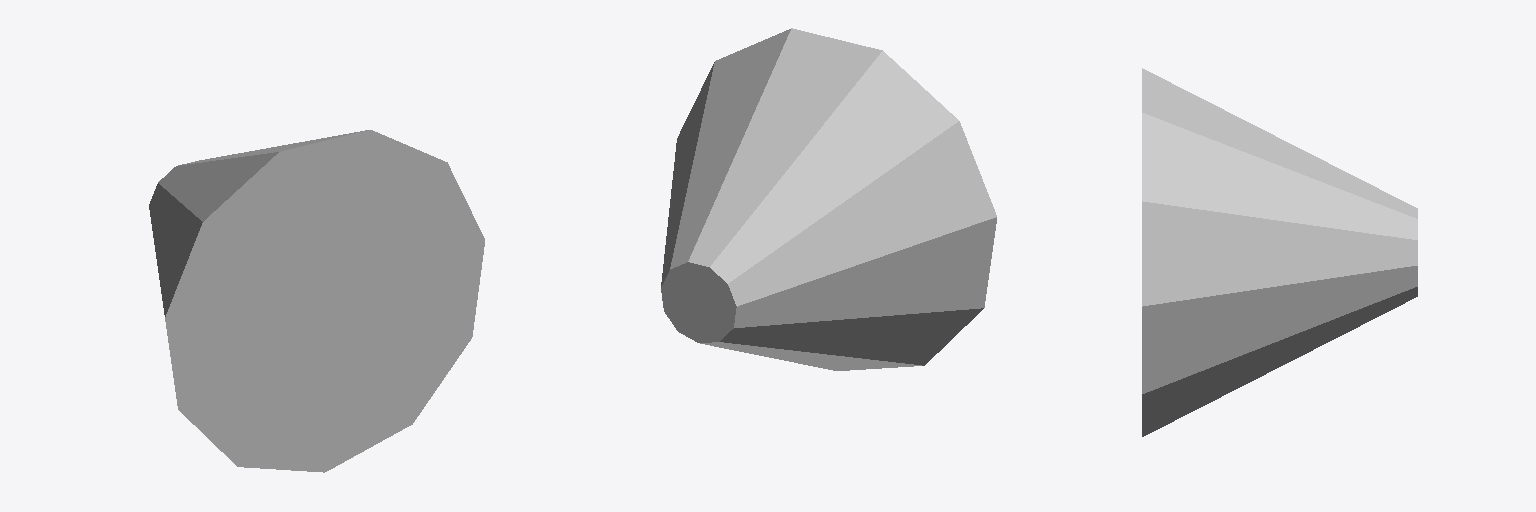
File: muzzle.obj
3 renders of one model, left to right at view 1: azimuth 30°, elevation 25°; view 2: azimuth 150°, elevation 25°; view 3: azimuth 270°, elevation 25°, orthographic.
Visible parts, largest first — view 1: Cone; view 2: Cone; view 3: Cone.
Part boxes in pixels (bbox=[...]): Cone: bbox=[149, 130, 484, 472]; Cone: bbox=[661, 28, 996, 370]; Cone: bbox=[1142, 68, 1417, 436].
Bounding box in the file's own units: 27.26 × 26.98 × 20.39.